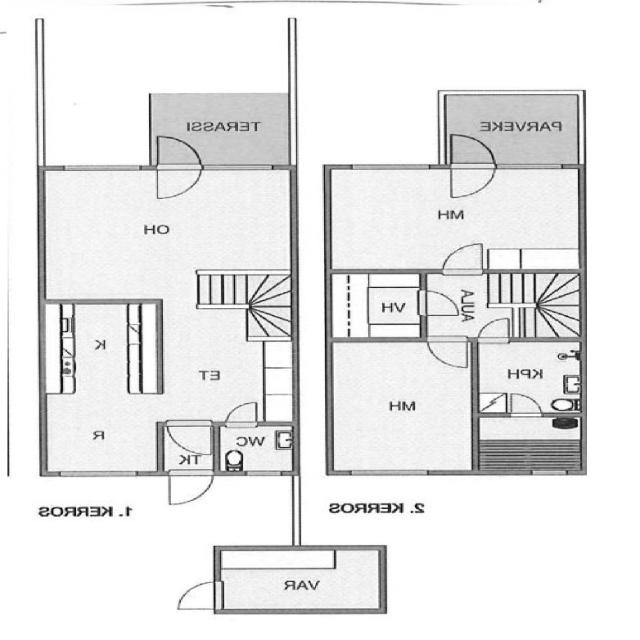door: (151, 132, 209, 204), (421, 329, 474, 373), (160, 420, 218, 458), (167, 472, 217, 513), (433, 237, 486, 274), (168, 581, 225, 612), (414, 285, 462, 321), (478, 314, 520, 347), (506, 390, 546, 420), (227, 396, 259, 432)
window: (344, 156, 442, 174), (348, 468, 435, 485), (490, 155, 567, 173), (57, 466, 148, 480), (199, 157, 284, 171), (59, 160, 141, 173), (238, 464, 282, 479), (524, 466, 566, 478)
zone: (40, 170, 302, 304), (330, 167, 584, 274), (39, 302, 161, 476), (334, 333, 479, 477), (476, 336, 588, 417), (320, 270, 425, 340), (474, 416, 588, 478), (216, 422, 302, 474)
